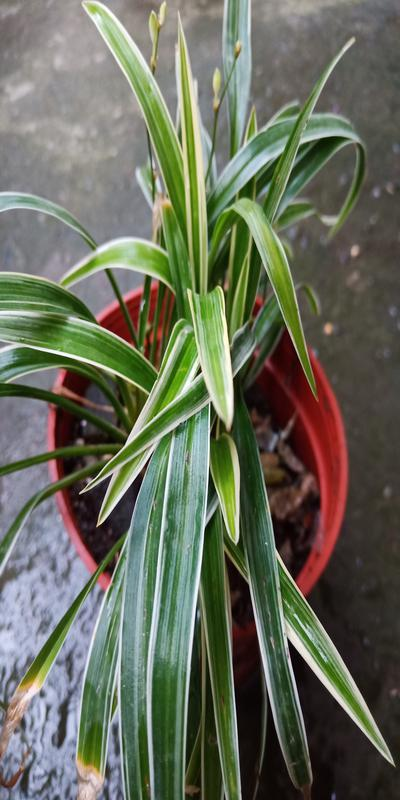Yellow and green leaf: (5, 33, 386, 713)
